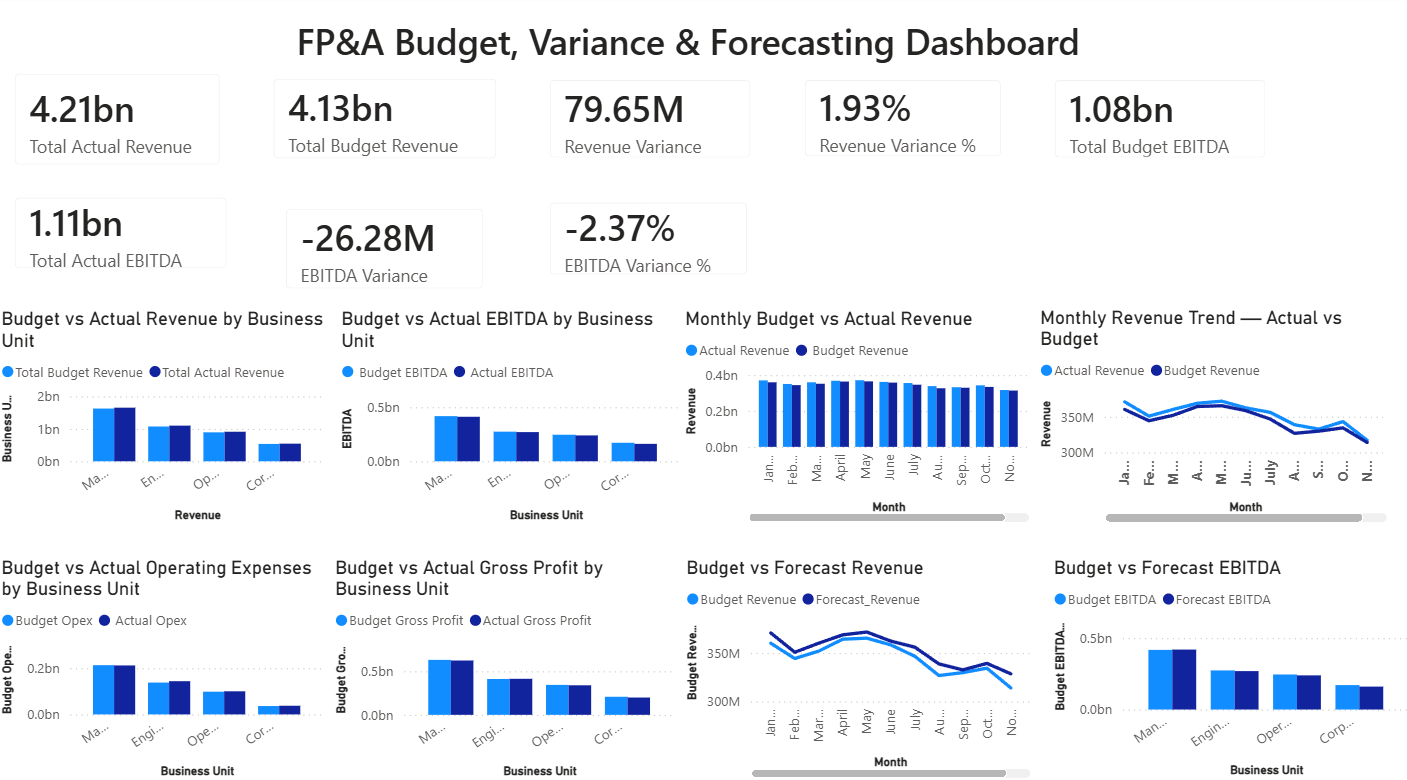

The page's visual inventory and layout, read from the dashboard file:
{"tool":"powerbi","page":{"name":"Page 1","canvas":[1280,720],"ordinal":0},"visuals":[{"type":"cardVisual","fields":{"Data":["P&L_Data.Total Actual Revenue"]},"box":[0,53.6,219.2,116.9],"z":0},{"type":"cardVisual","fields":{"Data":["P&L_Data.Total Budget Revenue"]},"box":[233.2,58.7,235.3,106.7],"z":1000},{"type":"cardVisual","fields":{"Data":["P&L_Data.Revenue Variance"]},"box":[482.4,59.9,215.8,104.2],"z":2000},{"type":"cardVisual","fields":{"Data":["P&L_Data.Revenue Variance %"]},"box":[712.2,60.2,211.9,103.8],"z":3000},{"type":"cardVisual","fields":{"Data":["Sum(P&L_Data.Actual_EBITDA)"]},"box":[938.1,59.9,224.4,104.2],"z":4000},{"type":"cardVisual","fields":{"Data":["Sum(P&L_Data.Budget_EBITDA)"]},"box":[0,165.5,225.6,98.1],"z":5000},{"type":"cardVisual","fields":{"Data":["P&L_Data.EBITDA Variance"]},"box":[244,175.4,212.1,106.7],"z":6000},{"type":"cardVisual","fields":{"Data":["P&L_Data.EBITDA Variance %"]},"box":[481.9,170.5,212.1,99.3],"z":7000},{"type":"clusteredColumnChart","title":"Budget vs Actual Revenue by Business Unit","fields":{"Category":["P&L_Data.Business_Unit"],"Y":["P&L_Data.Total Budget Revenue","P&L_Data.Total Actual Revenue"]},"box":[0,282,301.7,198.7],"z":8000},{"type":"clusteredColumnChart","title":"Budget vs Actual EBITDA by Business Unit","fields":{"Category":["P&L_Data.Business_Unit"],"Y":["Sum(P&L_Data.Budget_EBITDA)","Sum(P&L_Data.Actual_EBITDA)"]},"box":[306.6,282,317.6,198.7],"z":9000},{"type":"clusteredColumnChart","title":"Monthly Budget vs Actual Revenue","fields":{"Category":["P&L_Data.Month.Variation.Date Hierarchy.Month"],"Y":["Sum(P&L_Data.Actual_Revenue)","Sum(P&L_Data.Budget_Revenue)"]},"box":[616.8,282,320.1,198.7],"z":10000},{"type":"lineChart","title":"Monthly Revenue Trend — Actual vs Budget","fields":{"Category":["P&L_Data.Month.Variation.Date Hierarchy.Month"],"Y":["Sum(P&L_Data.Actual_Revenue)","Sum(P&L_Data.Budget_Revenue)"]},"box":[936.9,280.8,322.5,199.9],"z":11000},{"type":"clusteredColumnChart","title":"Budget vs Actual Operating Expenses by Business Unit","fields":{"Category":["P&L_Data.Business_Unit"],"Y":["Sum(P&L_Data.Budget_Opex)","Sum(P&L_Data.Actual_Opex)"]},"box":[0,505.7,301.1,204.6],"z":12000},{"type":"clusteredColumnChart","title":"Budget vs Actual Gross Profit by Business Unit","fields":{"Category":["P&L_Data.Business_Unit"],"Y":["Sum(P&L_Data.Budget_Gross_Profit)","Sum(P&L_Data.Actual_Gross_Profit)"]},"box":[301,506,317,205],"z":13000},{"type":"lineChart","title":"Budget vs Forecast Revenue","fields":{"Y":["Sum(Forecast_Data.Budget_Revenue)","Sum(Forecast_Data.Forecast_Revenue)"],"Category":["Forecast_Data.Month.Variation.Date Hierarchy.Month"]},"box":[618,506,320,205],"z":14000},{"type":"clusteredColumnChart","title":"Budget vs Forecast EBITDA","fields":{"Category":["Forecast_Data.Business_Unit"],"Y":["Sum(Forecast_Data.Budget_EBITDA)","Sum(Forecast_Data.Forecast_EBITDA)"]},"box":[948.9,506.3,331.4,204.2],"z":15000},{"type":"textbox","box":[225.6,14.7,797.1,56.4],"z":16000}]}

Visuals, with their boxes in screenshot pixels (x1, y1, x2, y2), scaled from the page's 1280x720 canvas onto the 1407x780 screenshot:
cardVisual - P&L_Data.Total Actual Revenue: bbox=[0, 58, 241, 185]
cardVisual - P&L_Data.Total Budget Revenue: bbox=[256, 64, 515, 179]
cardVisual - P&L_Data.Revenue Variance: bbox=[530, 65, 767, 178]
cardVisual - P&L_Data.Revenue Variance %: bbox=[783, 65, 1016, 178]
cardVisual - Sum(P&L_Data.Actual_EBITDA): bbox=[1031, 65, 1278, 178]
cardVisual - Sum(P&L_Data.Budget_EBITDA): bbox=[0, 179, 248, 286]
cardVisual - P&L_Data.EBITDA Variance: bbox=[268, 190, 501, 306]
cardVisual - P&L_Data.EBITDA Variance %: bbox=[530, 185, 763, 292]
"Budget vs Actual Revenue by Business Unit" clusteredColumnChart: bbox=[0, 306, 332, 521]
"Budget vs Actual EBITDA by Business Unit" clusteredColumnChart: bbox=[337, 306, 686, 521]
"Monthly Budget vs Actual Revenue" clusteredColumnChart: bbox=[678, 306, 1030, 521]
"Monthly Revenue Trend — Actual vs Budget" lineChart: bbox=[1030, 304, 1384, 521]
"Budget vs Actual Operating Expenses by Business Unit" clusteredColumnChart: bbox=[0, 548, 331, 769]
"Budget vs Actual Gross Profit by Business Unit" clusteredColumnChart: bbox=[331, 548, 679, 770]
"Budget vs Forecast Revenue" lineChart: bbox=[679, 548, 1031, 770]
"Budget vs Forecast EBITDA" clusteredColumnChart: bbox=[1043, 548, 1406, 770]
textbox: bbox=[248, 16, 1124, 77]
